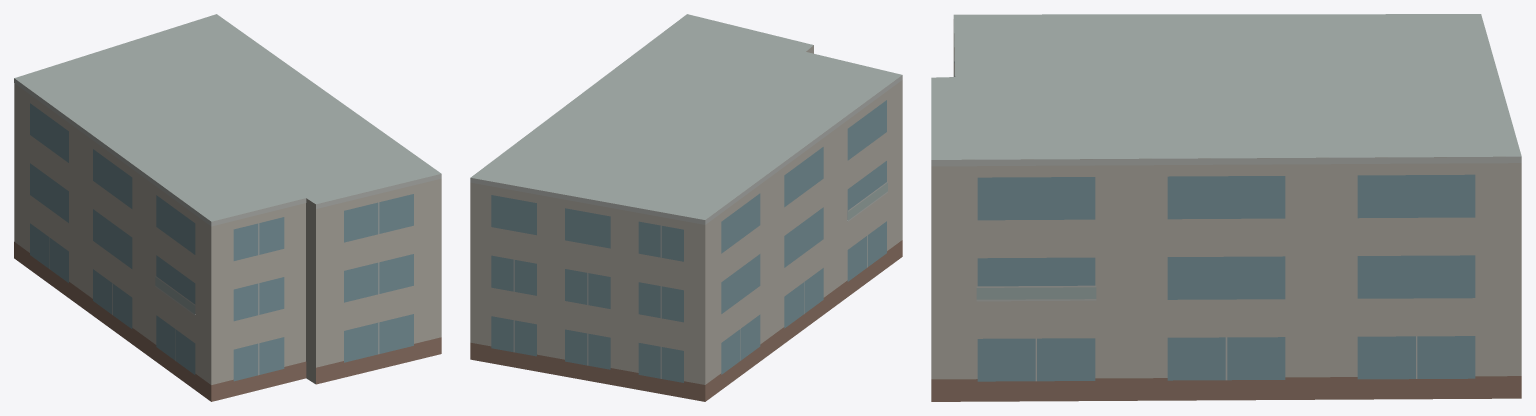
Rendered from survey-upis-33003477.glb.
The picture shows the model from 3 angles, left to right: view 1: azimuth 30°, elevation 25°; view 2: azimuth 150°, elevation 25°; view 3: azimuth 270°, elevation 25°; orthographic projection. The views are drawn at different scales.
Visible parts, largest first — view 1: survey-upis-33003477.tmp; view 2: survey-upis-33003477.tmp; view 3: survey-upis-33003477.tmp.
Boxes of the visible parts, x1=… form: survey-upis-33003477.tmp: x1=14, y1=14, x2=441, y2=401; survey-upis-33003477.tmp: x1=470, y1=14, x2=902, y2=401; survey-upis-33003477.tmp: x1=931, y1=14, x2=1521, y2=401.
Size of the model in its own units: 11.87 by 9.15 by 20.26.
